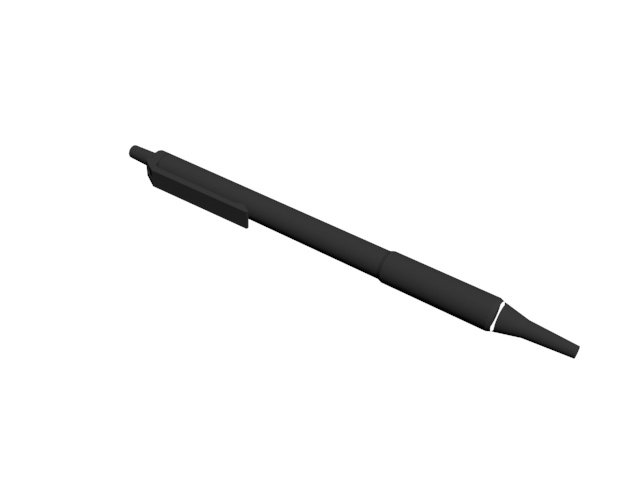pen: (129, 145, 584, 360)
